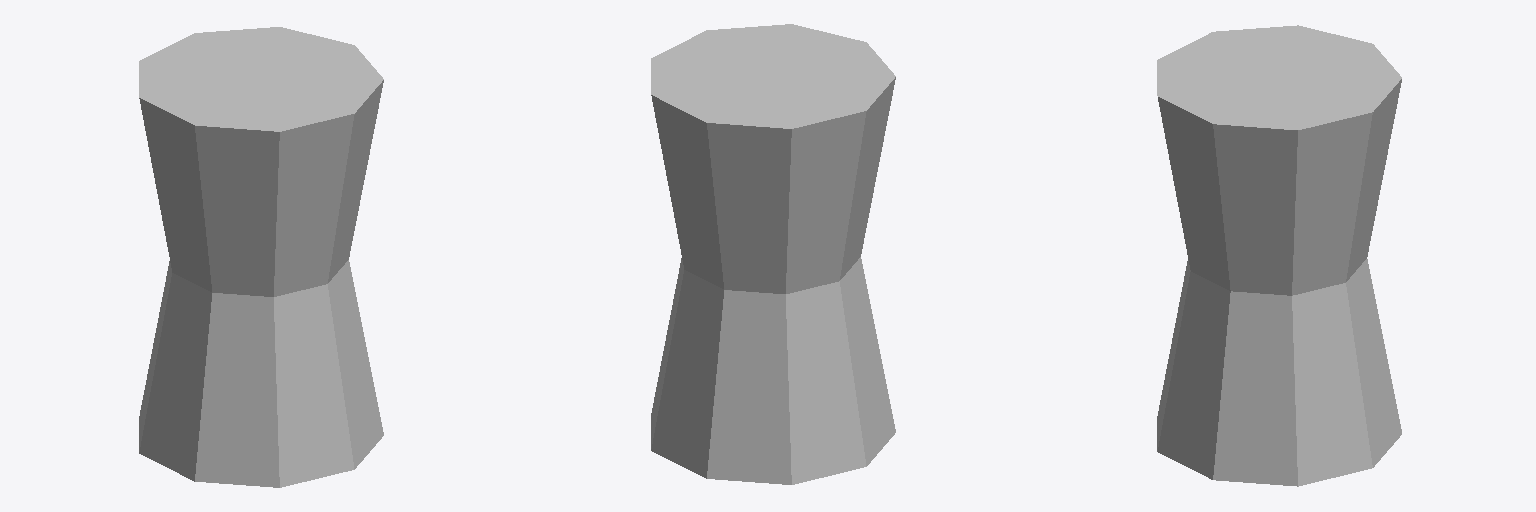
File: bottomtree.obj
3 views of the same model, side by side, from view 1: azimuth 30°, elevation 25°; view 2: azimuth 150°, elevation 25°; view 3: azimuth 270°, elevation 25° (orthographic).
Visible parts, largest first — view 1: Cylinder.016_Cylinder.001; view 2: Cylinder.016_Cylinder.001; view 3: Cylinder.016_Cylinder.001.
Boxes of the visible parts, <box> form: Cylinder.016_Cylinder.001: <box>139,27,383,487</box>; Cylinder.016_Cylinder.001: <box>651,24,895,484</box>; Cylinder.016_Cylinder.001: <box>1157,25,1401,486</box>.
Size of the model in its own units: 7.81 by 12.33 by 7.69.